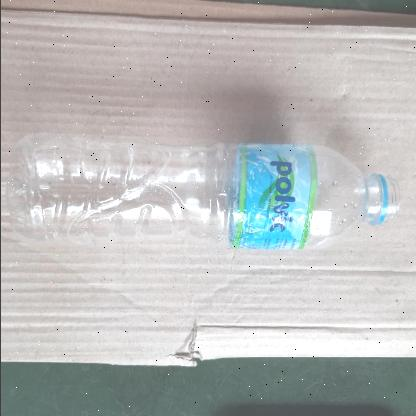Plastic Bottle: (7, 134, 397, 250)
